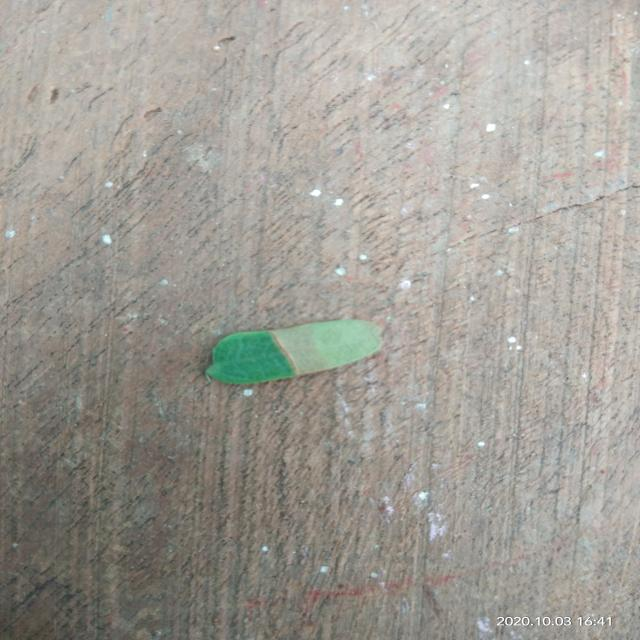defectedtamarind: (270, 320, 382, 375)
tamarind: (207, 320, 382, 384)
